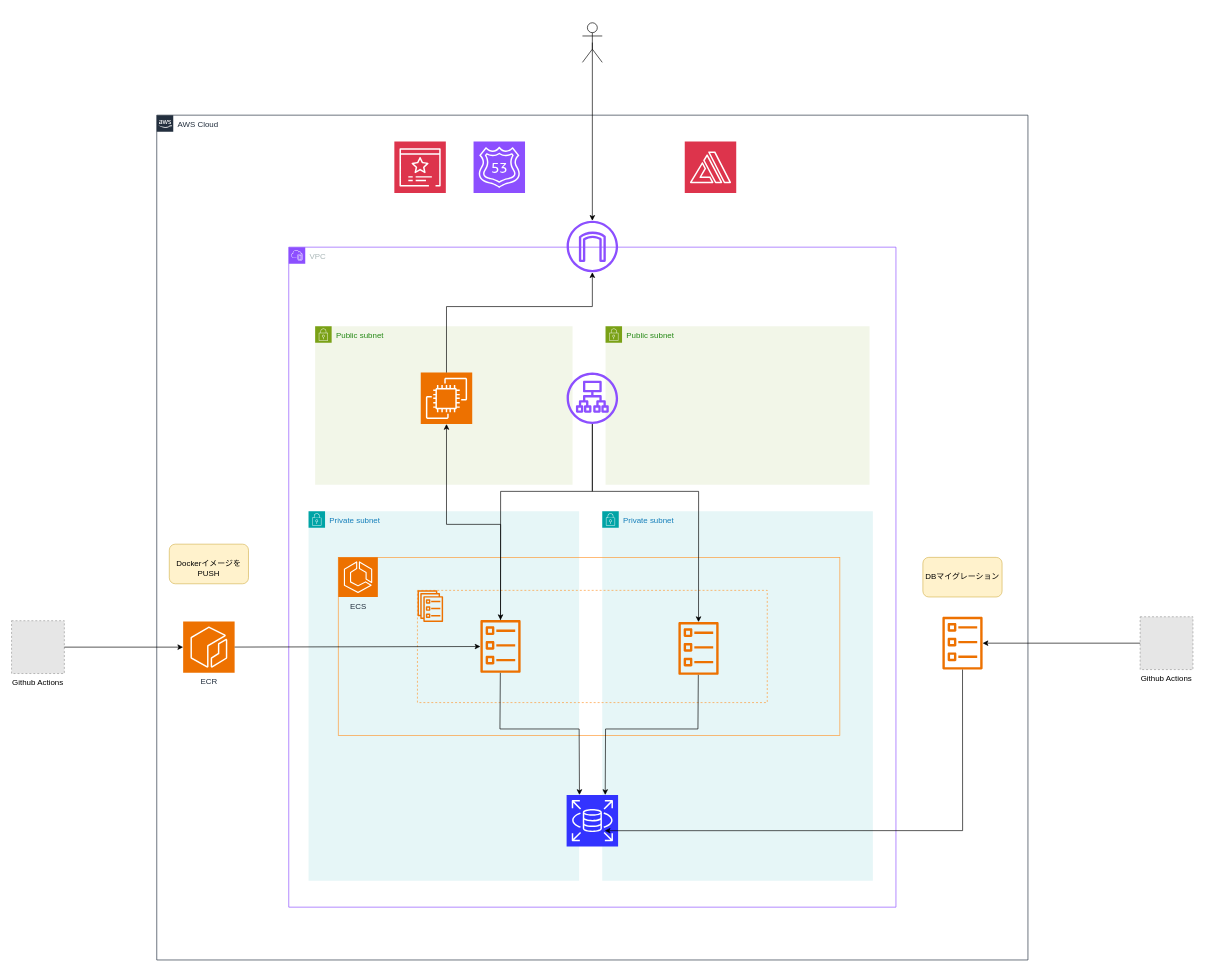
This 1205x972 diagram has some shape labels left out. Grey dashed boxes stand in for pictures. Each missing label, with the centre of its shape:
"Amplify" belongs at pixel 710 167.
"NAT instance EC2" belongs at pixel 446 398.
"RDS" belongs at pixel 592 820.
"Service" belongs at pixel 430 606.
"task" belongs at pixel 962 642.
"User" belongs at pixel 592 42.
